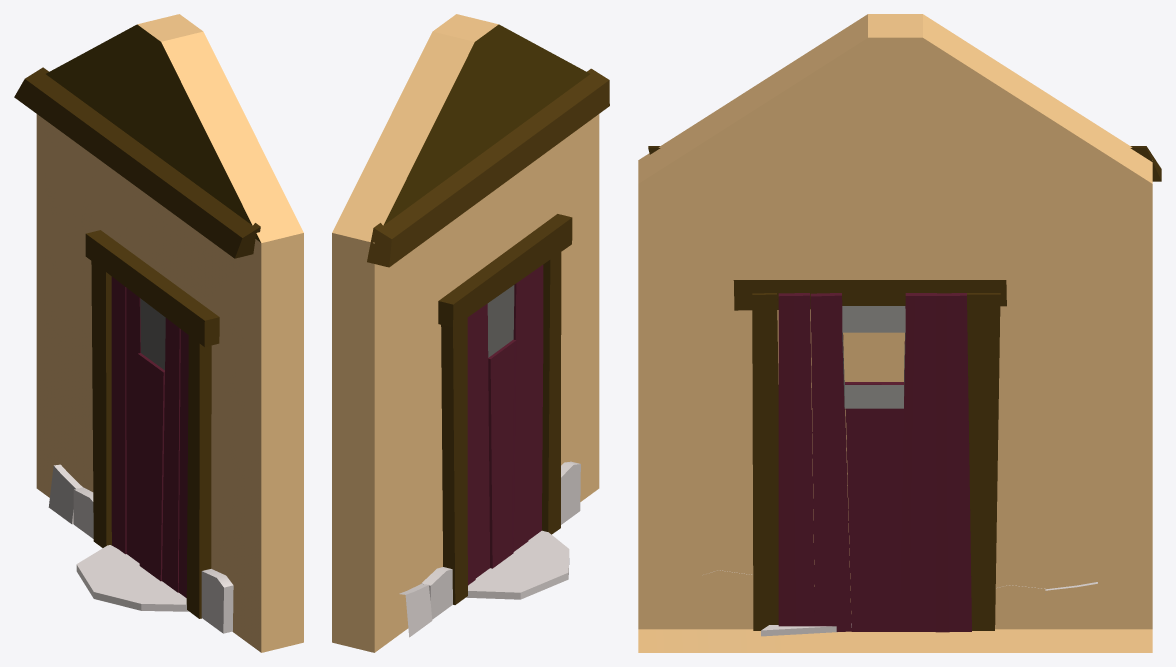
File: SM_FrontWall1_LOD0.fbx
The picture shows the model from 3 angles, left to right: view 1: azimuth 30°, elevation 25°; view 2: azimuth 150°, elevation 25°; view 3: azimuth 270°, elevation 25°; orthographic projection. The views are drawn at different scales.
Parts seen in each view (by area): view 1: SM_FrontWall1_LOD0; view 2: SM_FrontWall1_LOD0; view 3: SM_FrontWall1_LOD0.
Part boxes in pixels (left/top/right/bottom): SM_FrontWall1_LOD0: left=14, top=14, right=303, bottom=652; SM_FrontWall1_LOD0: left=332, top=14, right=609, bottom=652; SM_FrontWall1_LOD0: left=638, top=14, right=1161, bottom=652.
Bounding box in the file's own units: 2.22 × 9.84 × 7.56.
